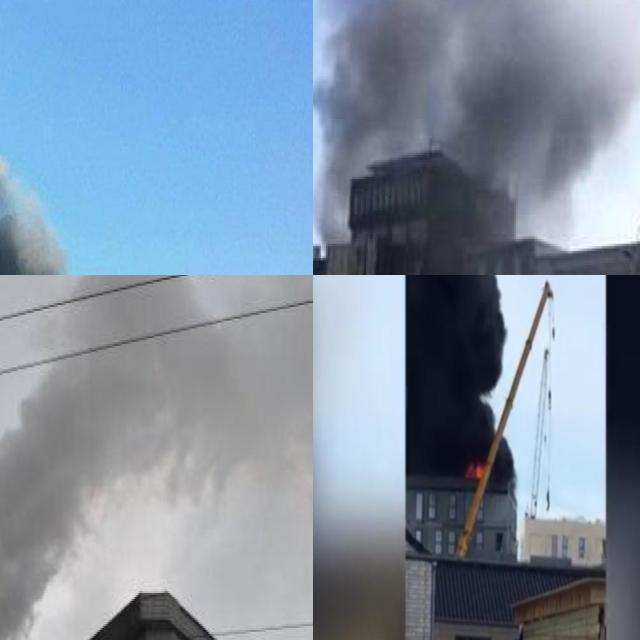fire: (466, 458, 488, 480)
smoke: (0, 275, 313, 640), (0, 0, 278, 275), (313, 0, 629, 202), (409, 275, 514, 475)
